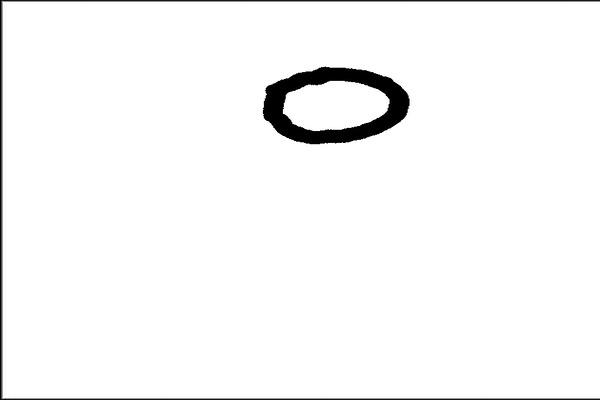O: (252, 57, 414, 153)
